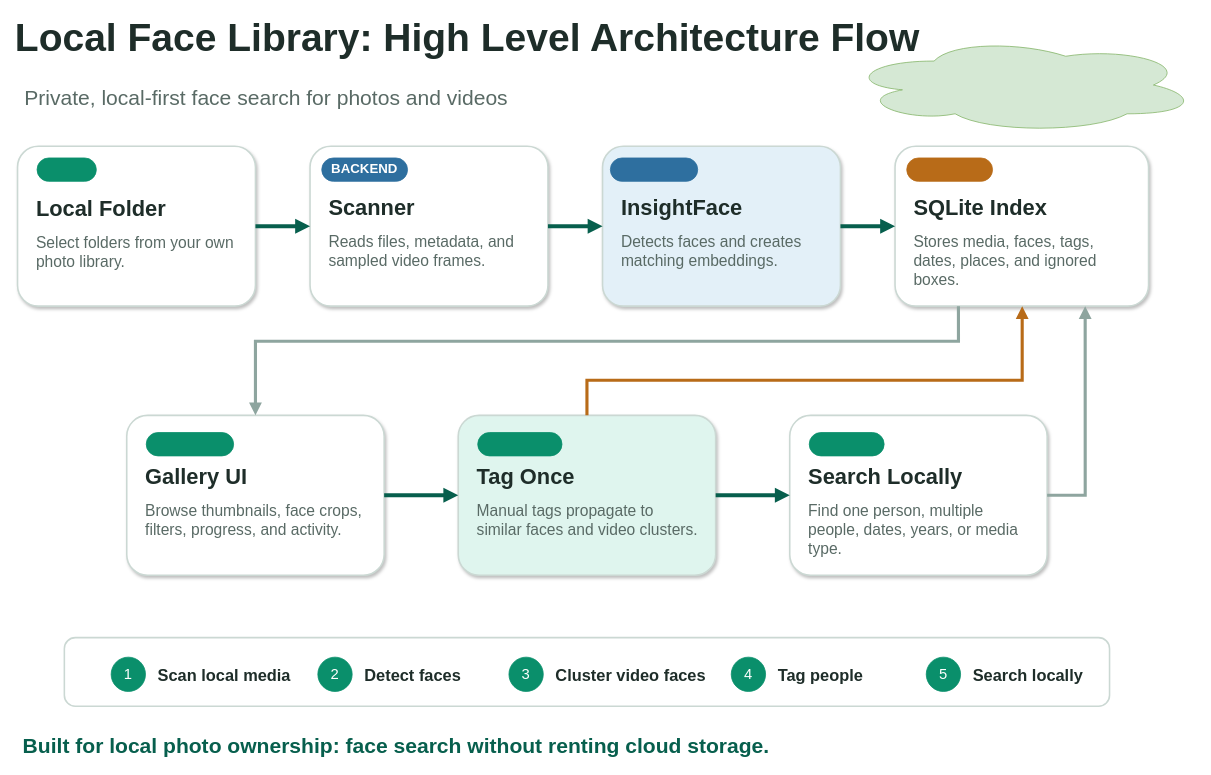
This 1211x775 diagram has some shape labels left out. Here are the shapes that lost their labels. From the top down, the centre of each, then its label:
At point 1021,84: "No cloud upload Media stays on your machine".
At point 66,169: "INPUT".
At point 654,169: "AI ENGINE".
At point 949,169: "LOCAL DB".
At point 189,444: "BROWSER".
At point 519,444: "TAGGING".
At point 846,444: "OUTPUT".
